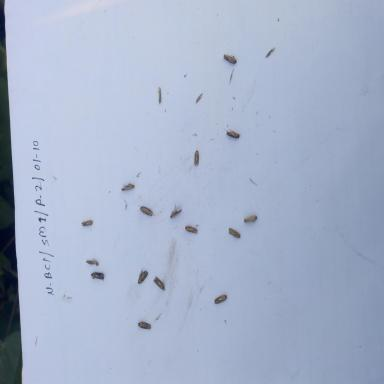pbw: (219, 47, 243, 70), (222, 120, 243, 145), (151, 270, 170, 294), (134, 266, 152, 288), (190, 144, 204, 172), (118, 180, 138, 195), (168, 202, 184, 220), (79, 215, 96, 231), (90, 270, 108, 284), (138, 204, 156, 218), (213, 291, 229, 306), (227, 225, 241, 242), (243, 211, 260, 224), (183, 223, 200, 236), (134, 319, 152, 331), (85, 256, 100, 268)
